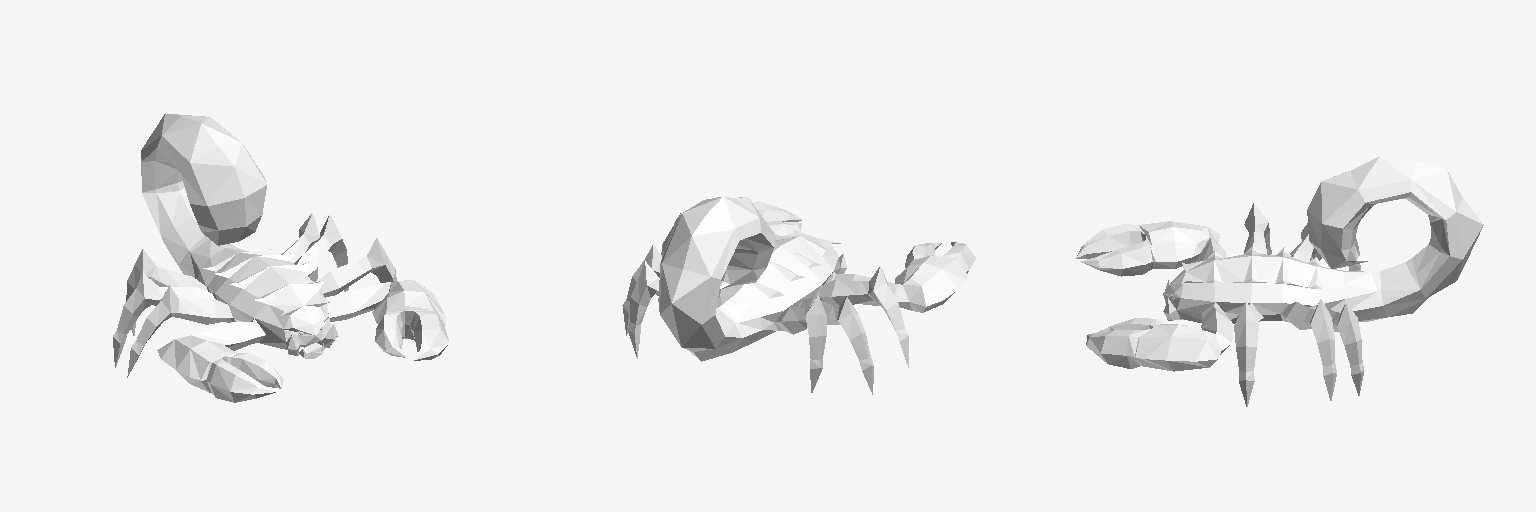
File: scorpion.obj
The picture shows the model from 3 angles: view 1: azimuth 30°, elevation 25°; view 2: azimuth 150°, elevation 25°; view 3: azimuth 270°, elevation 25°; orthographic projection.
Parts seen in each view (by area): view 1: pasted__DrawCall_0035 group; view 2: pasted__DrawCall_0035 group; view 3: pasted__DrawCall_0035 group.
Part boxes in pixels (bbox=[...]): pasted__DrawCall_0035 group: bbox=[113, 113, 448, 402]; pasted__DrawCall_0035 group: bbox=[622, 197, 975, 394]; pasted__DrawCall_0035 group: bbox=[1076, 156, 1483, 406].
Bounding box in the file's own units: 6.86 × 4.7 × 8.95.